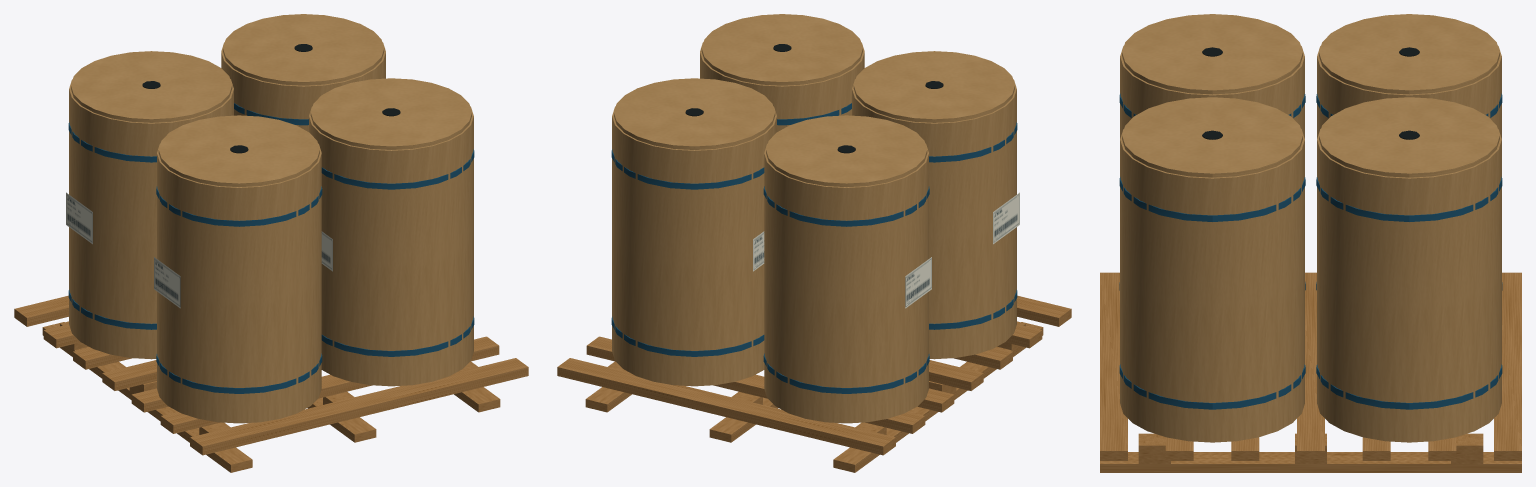
The model's file is paper_rolls.glb.
3 renders of one model, left to right at view 1: azimuth 30°, elevation 25°; view 2: azimuth 150°, elevation 25°; view 3: azimuth 270°, elevation 25°, orthographic. The views are drawn at different scales.
Visible parts, largest first — view 1: Kraft paper, Pine dunnage, Blue polypropylene straps, Packing label; view 2: Kraft paper, Pine dunnage, Blue polypropylene straps, Packing label; view 3: Kraft paper, Pine dunnage, Blue polypropylene straps, Dark recess.
Boxes of the visible parts, x1,y1,x2,y2 form: Kraft paper: (69, 14, 473, 423); Pine dunnage: (14, 295, 528, 472); Blue polypropylene straps: (68, 103, 474, 393); Packing label: (66, 192, 332, 308); Kraft paper: (612, 14, 1016, 423); Pine dunnage: (557, 295, 1071, 472); Blue polypropylene straps: (611, 103, 1017, 393); Packing label: (753, 192, 1019, 308); Kraft paper: (1120, 14, 1501, 442); Pine dunnage: (1100, 272, 1521, 472); Blue polypropylene straps: (1119, 93, 1502, 409); Dark recess: (1202, 47, 1419, 139).
Bounding box in the file's own units: 2.1 × 1.68 × 2.1.
Materials: 5 (3 with a texture image).
